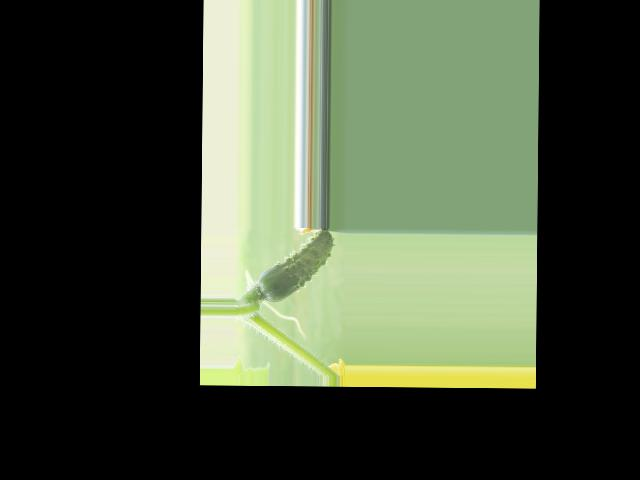cucumber: (258, 229, 334, 304)
